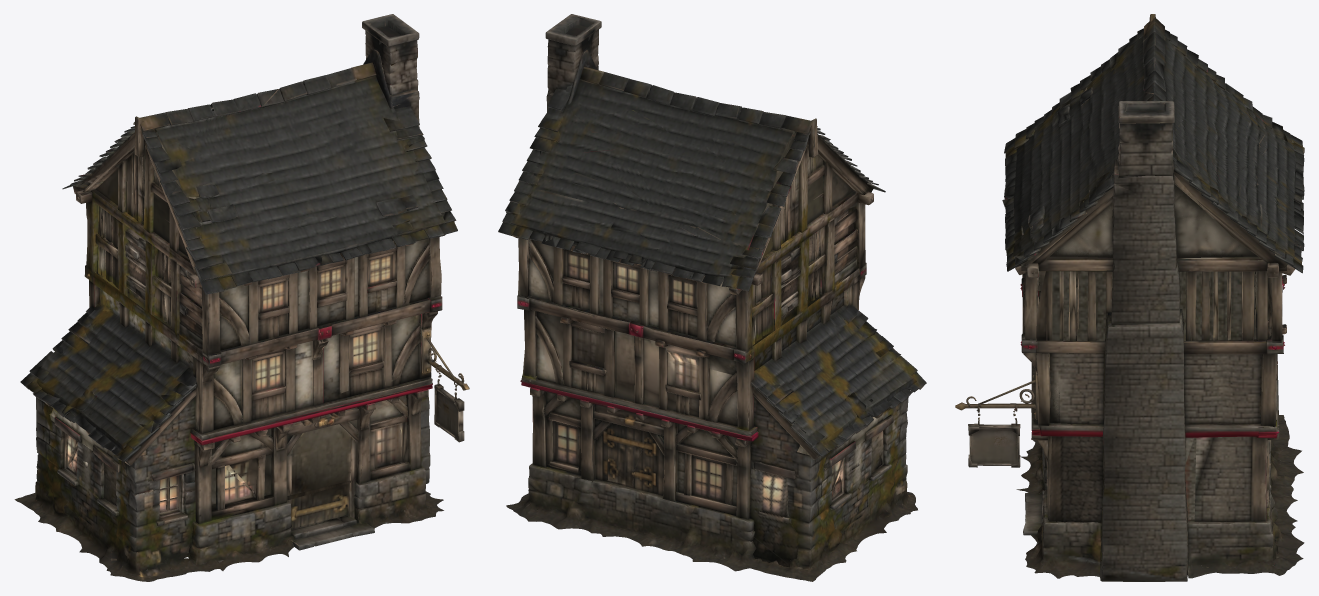
File: vil-inn.glb
3 views of the same model, side by side, from view 1: azimuth 30°, elevation 25°; view 2: azimuth 150°, elevation 25°; view 3: azimuth 270°, elevation 25° (orthographic). The views are drawn at different scales.
Size of the model in its own units: 0.7549 by 0.9521 by 0.6494.
Materials: 1 (1 with a texture image).
